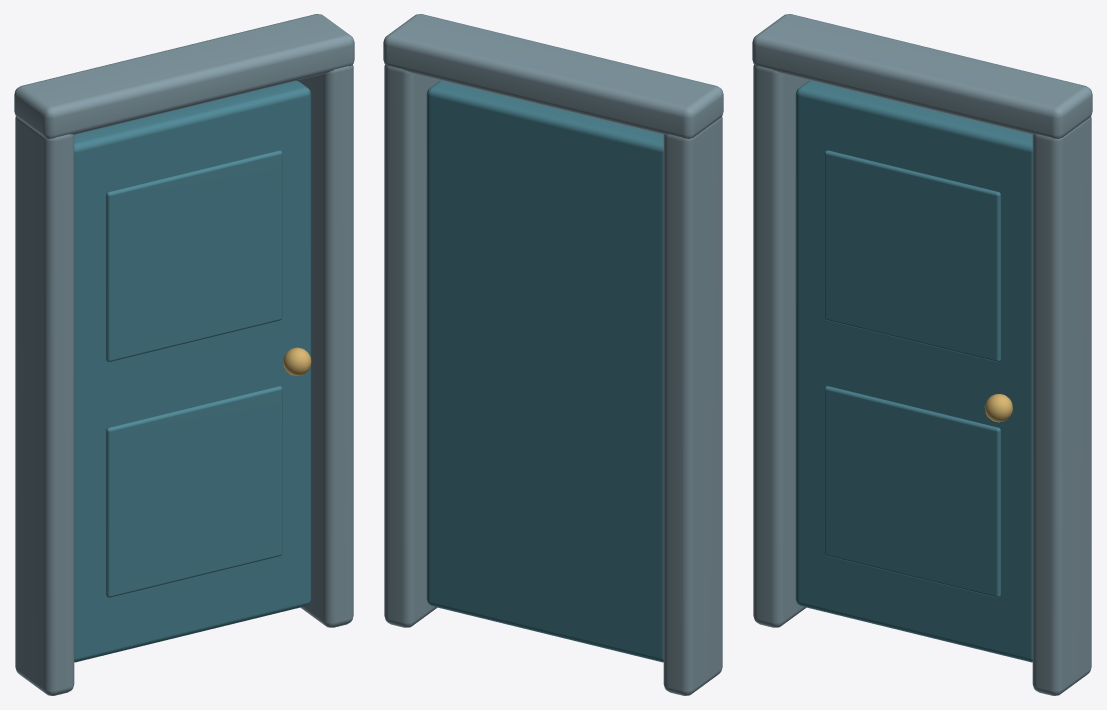
The model's file is branch-door.glb.
The picture shows the model from 3 angles, left to right: view 1: azimuth 30°, elevation 25°; view 2: azimuth 150°, elevation 25°; view 3: azimuth 330°, elevation 25°; orthographic projection.
Parts seen in each view (by area): view 1: Door_Panel, Door_Jamb, Raised_Panel.001, Raised_Panel, Door_Jamb.001, Door_Lintel, Door_Knob; view 2: Door_Panel, Door_Jamb, Door_Jamb.001, Door_Lintel; view 3: Door_Panel, Door_Jamb.001, Raised_Panel.001, Raised_Panel, Door_Jamb, Door_Lintel, Door_Knob.
Part boxes in pixels (left/top/right/bottom): Door_Panel: left=74, top=81, right=311, bottom=662; Door_Jamb: left=15, top=116, right=74, bottom=695; Raised_Panel.001: left=106, top=150, right=282, bottom=361; Raised_Panel: left=106, top=386, right=282, bottom=597; Door_Jamb.001: left=296, top=65, right=353, bottom=627; Door_Lintel: left=14, top=14, right=354, bottom=138; Door_Knob: left=283, top=347, right=311, bottom=375; Door_Panel: left=426, top=81, right=663, bottom=662; Door_Jamb: left=663, top=116, right=722, bottom=695; Door_Jamb.001: left=384, top=65, right=441, bottom=627; Door_Lintel: left=383, top=14, right=723, bottom=138; Door_Panel: left=795, top=81, right=1032, bottom=662; Door_Jamb.001: left=1032, top=116, right=1091, bottom=695; Raised_Panel.001: left=824, top=150, right=1000, bottom=361; Raised_Panel: left=824, top=386, right=1000, bottom=597; Door_Jamb: left=753, top=65, right=810, bottom=627; Door_Lintel: left=752, top=14, right=1092, bottom=138; Door_Knob: left=984, top=394, right=1012, bottom=422.
Size of the model in its own units: 1.38 by 2.5 by 0.335.
